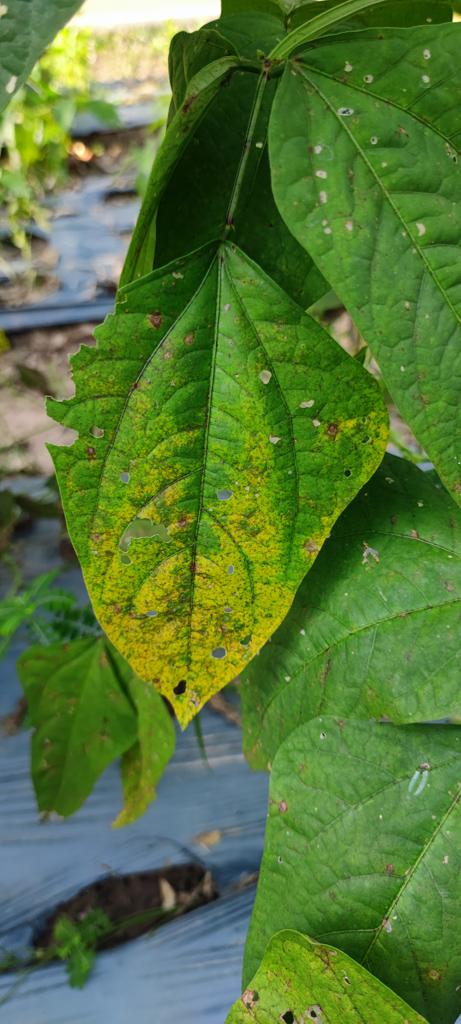Rust: (69, 250, 353, 728)
